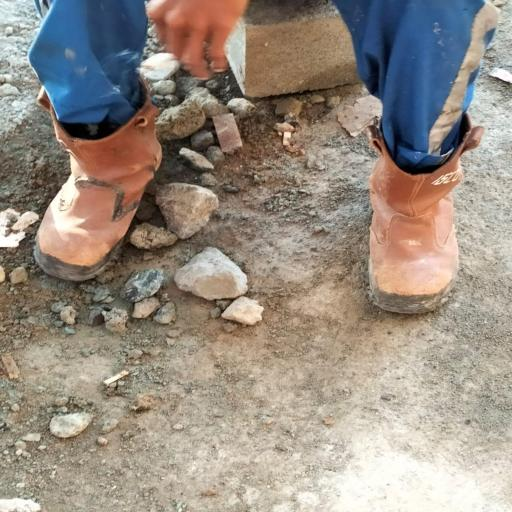safety_shoe: (32, 67, 166, 286), (357, 121, 495, 315)
